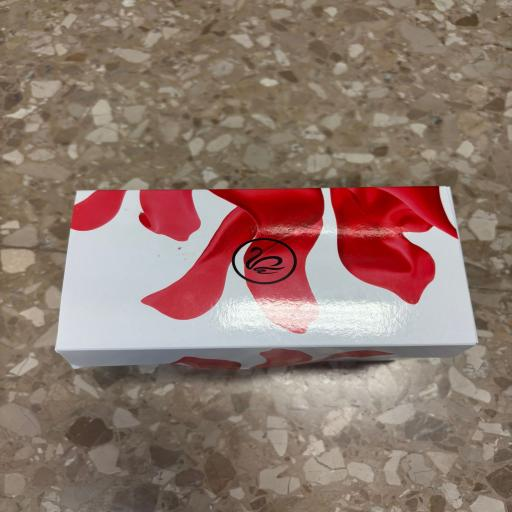caja_2: (55, 186, 477, 370)
